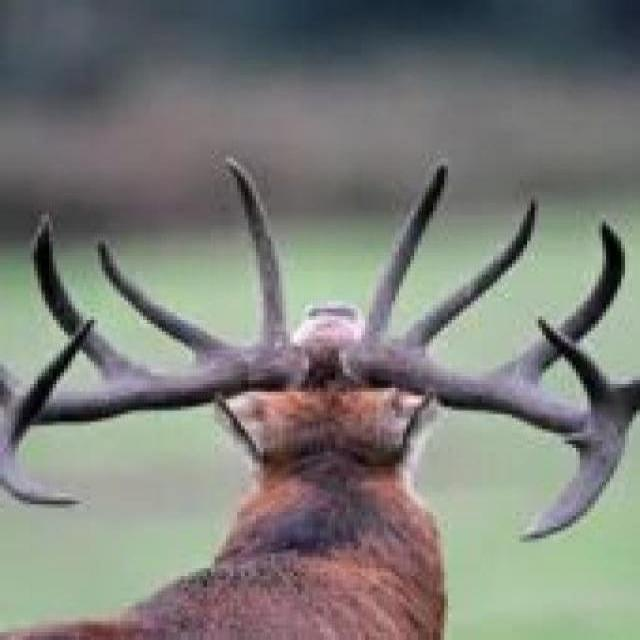deer: (64, 185, 627, 640)
